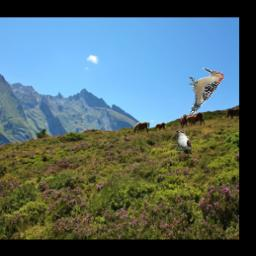Cuckoo: (176, 131, 192, 154)
Woodpecker: (190, 67, 224, 114)
